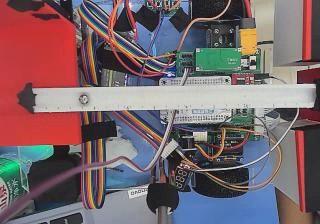ironball: (77, 94, 88, 104)
